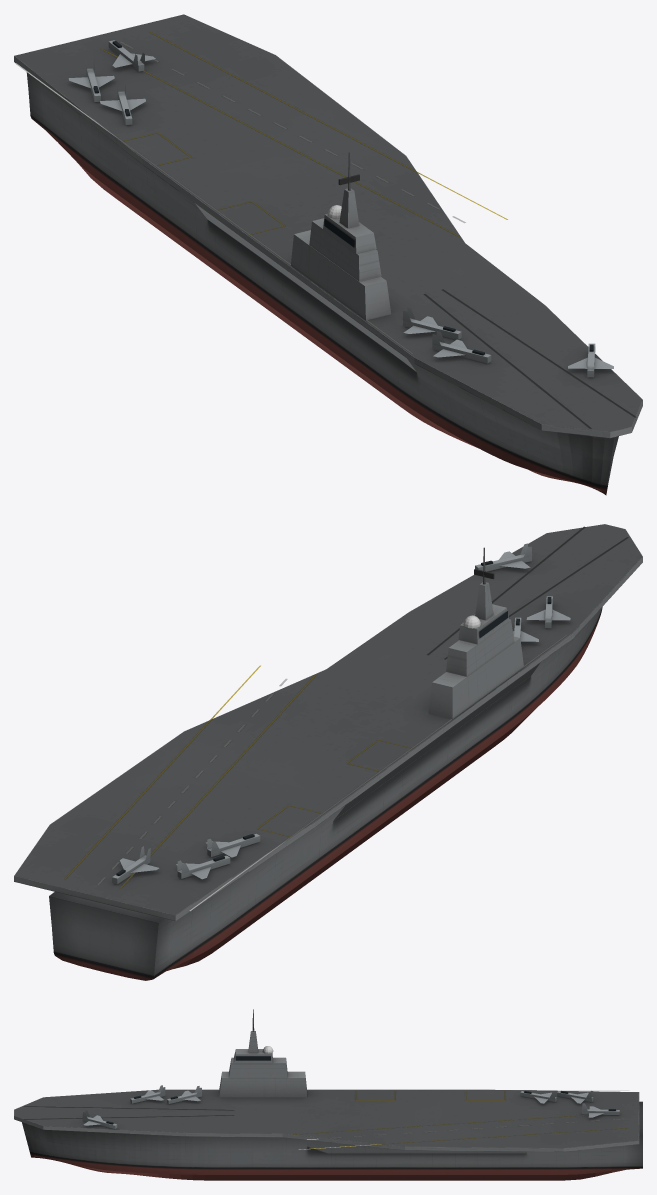
The model's file is carrier.glb.
3 renders of one model, top to bottom at view 1: azimuth 30°, elevation 25°; view 2: azimuth 150°, elevation 25°; view 3: azimuth 270°, elevation 25°, orthographic. The views are drawn at different scales.
Parts seen in each view (by area): view 1: Carrier_Hull; view 2: Carrier_Hull; view 3: Carrier_Hull.
Part boxes in pixels (<box>): Carrier_Hull: <box>14,14,642,495</box>; Carrier_Hull: <box>14,524,642,980</box>; Carrier_Hull: <box>14,1009,642,1180</box>.
Size of the model in its own units: 58.59 by 64.3 by 258.
Materials: 1 (1 with a texture image).
